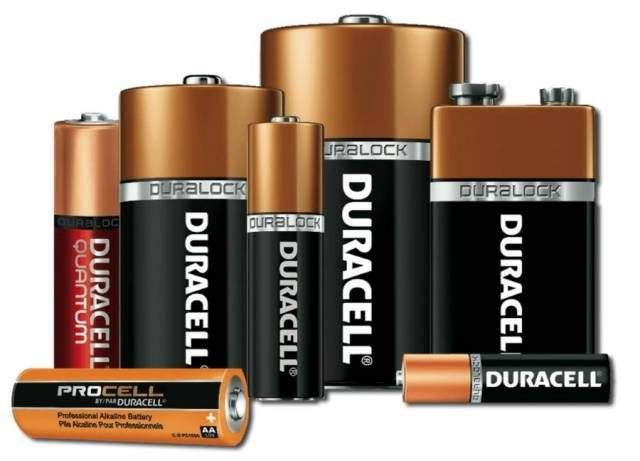Battery: (256, 7, 473, 395), (116, 72, 286, 370), (426, 79, 607, 356), (245, 112, 329, 407), (7, 363, 253, 453), (52, 108, 123, 369), (391, 350, 619, 409)
